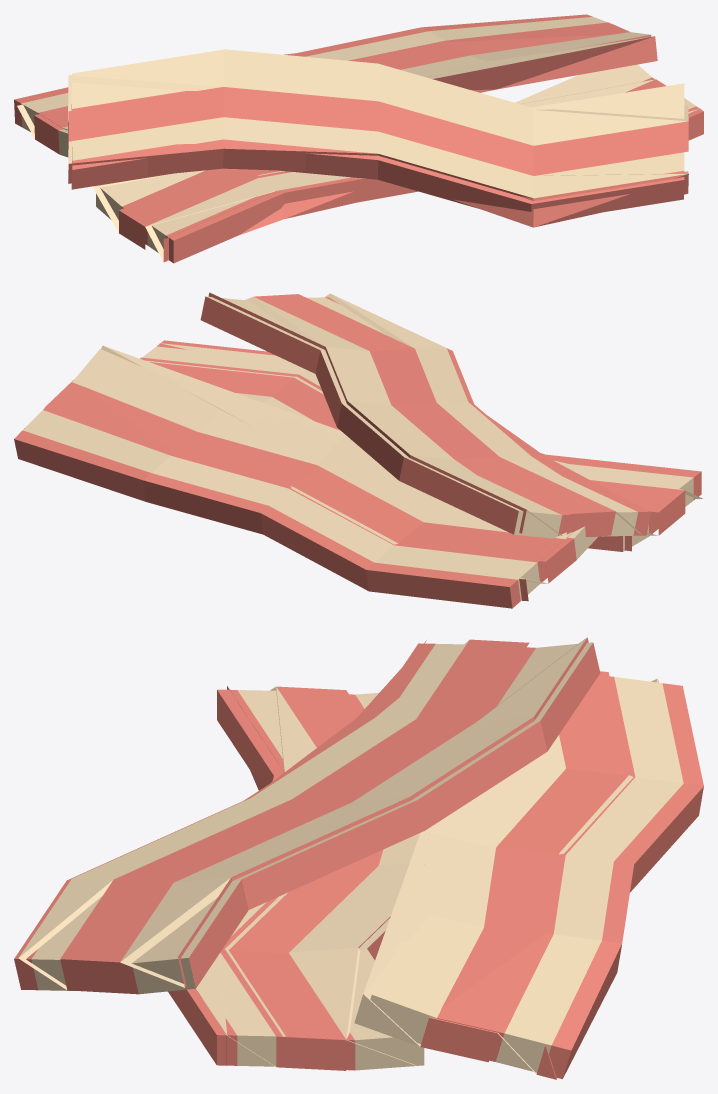
The model's file is imp-bacon.glb.
3 views of the same model, one above another, from view 1: azimuth 30°, elevation 25°; view 2: azimuth 150°, elevation 25°; view 3: azimuth 270°, elevation 25° (orthographic). The views are drawn at different scales.
Parts seen in each view (by area): view 1: Kerbside_metres_ground_pivot (×2); view 2: Kerbside_metres_ground_pivot (×2); view 3: Kerbside_metres_ground_pivot (×2).
Part boxes in pixels (x1,y1,x2,y2): Kerbside_metres_ground_pivot (×2): (14, 14, 703, 263); Kerbside_metres_ground_pivot (×2): (14, 292, 702, 608); Kerbside_metres_ground_pivot (×2): (14, 637, 703, 1079).
Size of the model in its own units: 0.28 by 0.0414 by 0.2191.
